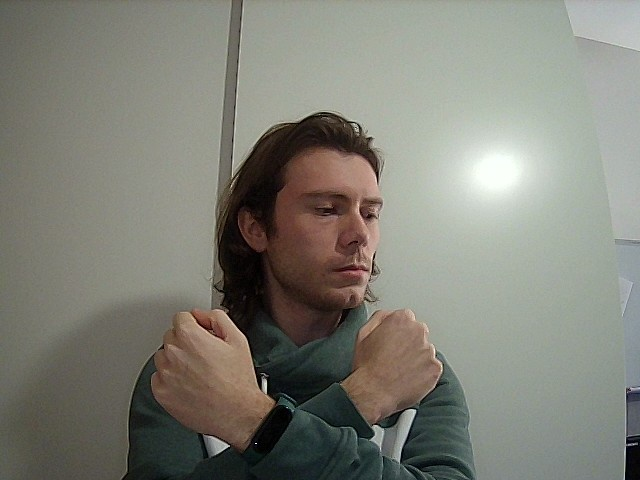del: (112, 302, 460, 480)
